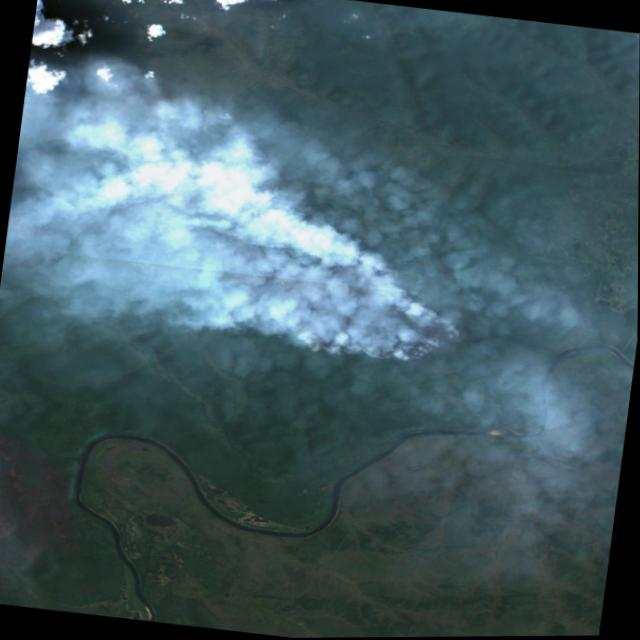fire: (284, 227, 488, 378)
